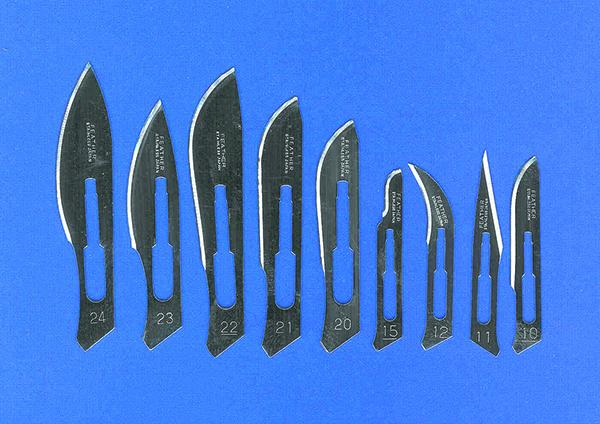Knife Blade: (45, 63, 129, 349), (245, 90, 322, 363), (190, 66, 257, 363), (307, 113, 377, 365), (127, 95, 186, 356), (459, 147, 516, 357), (505, 153, 560, 355), (359, 163, 415, 359), (407, 158, 460, 356)
